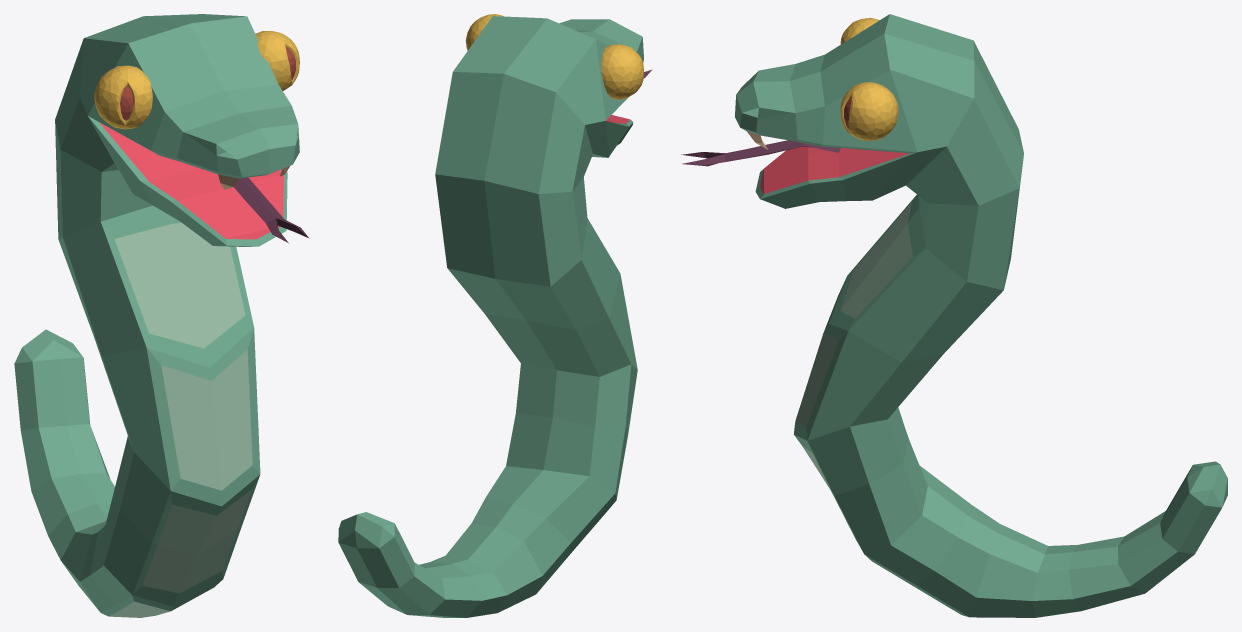
The model's file is q-easy-enemies-snake.glb.
The picture shows the model from 3 angles, left to right: view 1: azimuth 30°, elevation 25°; view 2: azimuth 150°, elevation 25°; view 3: azimuth 270°, elevation 25°; orthographic projection. The views are drawn at different scales.
Visible parts, largest first — view 1: DarkGreen, LightGreen, Red, Yellow, Purple, DarkRed; view 2: DarkGreen, Yellow; view 3: DarkGreen, LightGreen, Red, Yellow, Purple.
Boxes of the visible parts, <box> form: DarkGreen: <box>14,14,299,616</box>; LightGreen: <box>109,222,252,617</box>; Red: <box>99,122,283,239</box>; Yellow: <box>94,31,299,129</box>; Purple: <box>234,177,309,243</box>; DarkRed: <box>120,47,296,120</box>; DarkGreen: <box>338,16,643,617</box>; Yellow: <box>465,14,644,99</box>; DarkGreen: <box>735,14,1227,617</box>; LightGreen: <box>795,202,912,493</box>; Red: <box>760,146,909,193</box>; Yellow: <box>840,17,898,141</box>; Purple: <box>681,140,840,166</box>.
Size of the model in its own units: 1.05 by 3.18 by 2.73.
